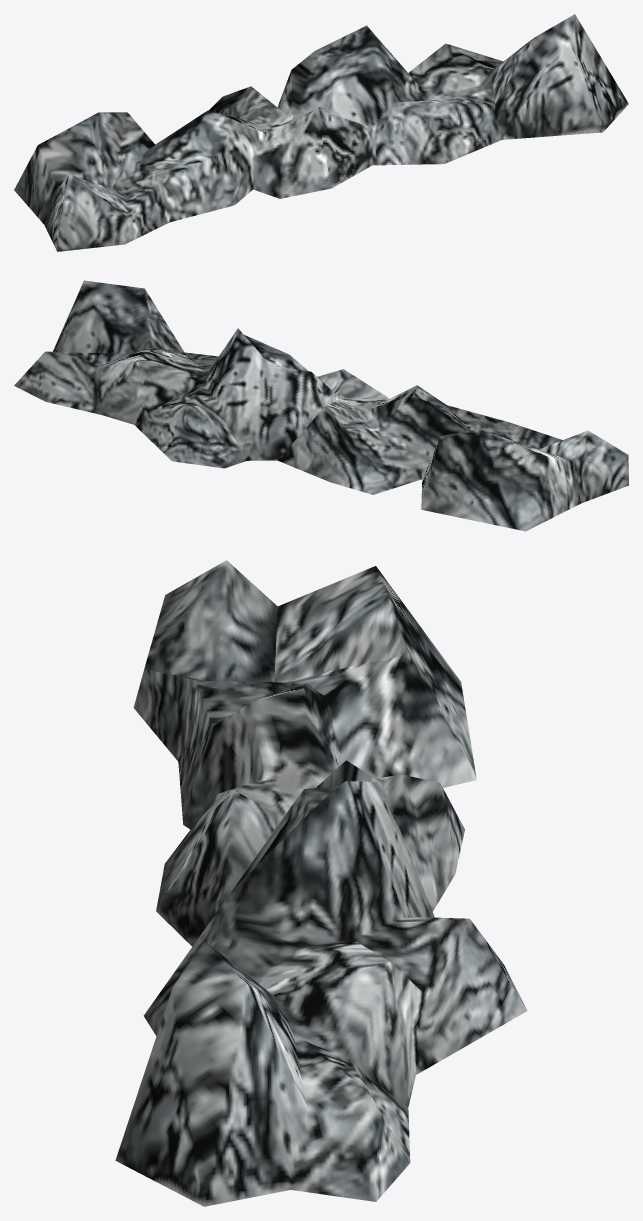
Rendered from STR_WallBoulderB.FBX.
The picture shows the model from 3 angles, top to bottom: view 1: azimuth 30°, elevation 25°; view 2: azimuth 150°, elevation 25°; view 3: azimuth 270°, elevation 25°; orthographic projection. The views are drawn at different scales.
Visible parts, largest first — view 1: STR_WallBoulderB; view 2: STR_WallBoulderB; view 3: STR_WallBoulderB.
Part boxes in pixels (bbox=[...]): STR_WallBoulderB: bbox=[14, 14, 628, 251]; STR_WallBoulderB: bbox=[14, 280, 628, 531]; STR_WallBoulderB: bbox=[115, 560, 527, 1206].
Bounding box in the file's own units: 1273 × 225 × 400.
1 material, 1 textured.
